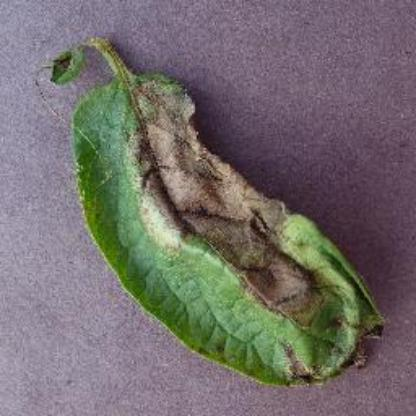Late-Blight: (35, 22, 391, 388)
